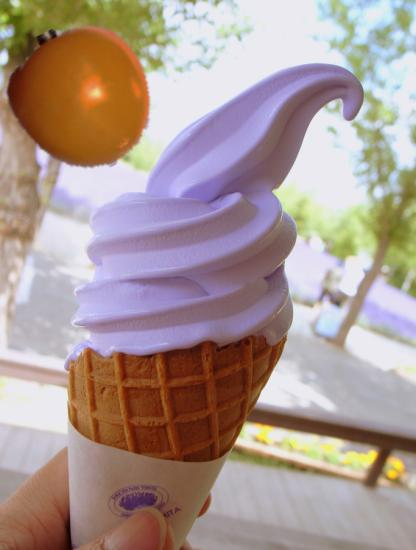Tomato: (7, 23, 157, 173)
